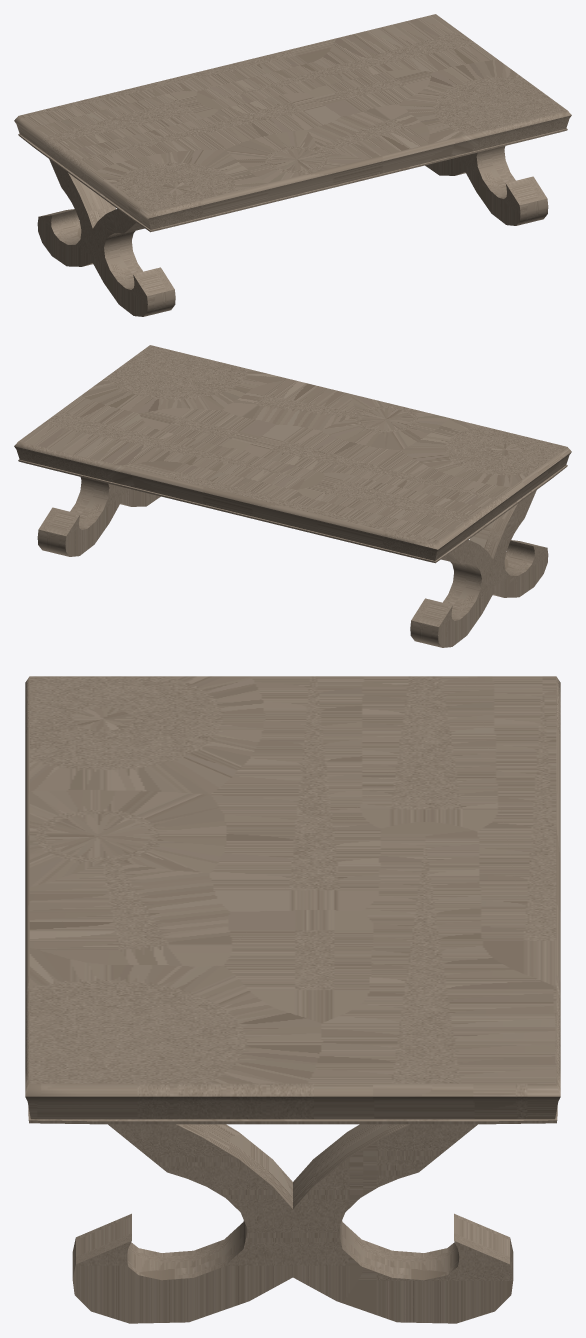
Rendered from Table001.fbx.
3 renders of one model, top to bottom at view 1: azimuth 30°, elevation 25°; view 2: azimuth 150°, elevation 25°; view 3: azimuth 270°, elevation 25°, orthographic. The views are drawn at different scales.
Parts seen in each view (by area): view 1: polySurface1; view 2: polySurface1; view 3: polySurface1.
Boxes of the visible parts, box(x1,y1,x2,y2) form: polySurface1: box(14, 14, 571, 316); polySurface1: box(14, 345, 571, 647); polySurface1: box(25, 676, 560, 1323).
Size of the model in its own units: 176 by 49.27 by 96.31.
